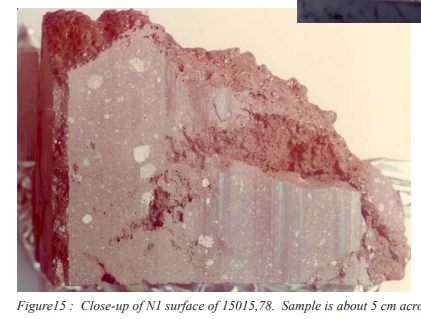Breccia: (42, 14, 404, 288), (201, 51, 402, 288), (41, 22, 219, 267)
